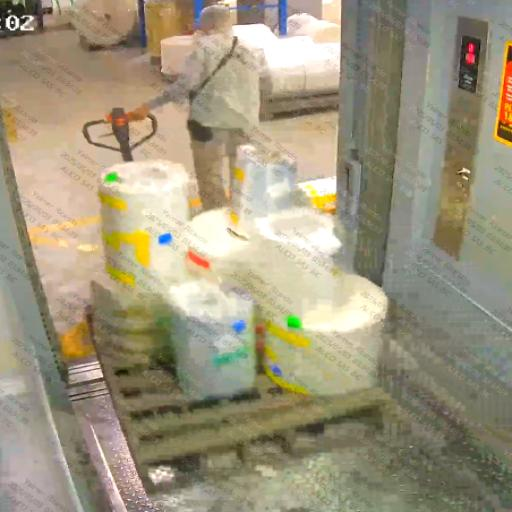Rollos sin amarrar: (50, 92, 435, 481)
